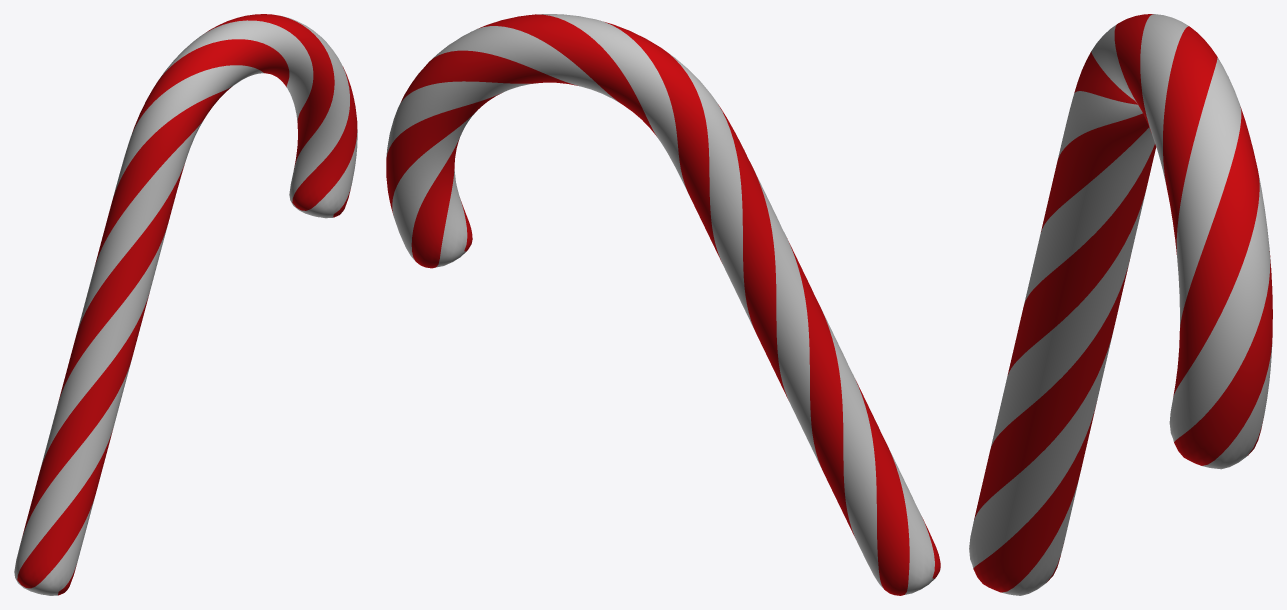
Rendered from candy cane 3.obj.
3 views of the same model, side by side, from view 1: azimuth 30°, elevation 25°; view 2: azimuth 150°, elevation 25°; view 3: azimuth 270°, elevation 25° (orthographic). The views are drawn at different scales.
Visible parts, largest first — view 1: Circle.001_Circle.002; view 2: Circle.001_Circle.002; view 3: Circle.001_Circle.002.
Part boxes in pixels (box(x1,y1,x2,y2)): Circle.001_Circle.002: box(14, 14, 357, 595); Circle.001_Circle.002: box(386, 14, 940, 595); Circle.001_Circle.002: box(969, 14, 1272, 595).
Bounding box in the file's own units: 2.35 × 2.64 × 0.988.
